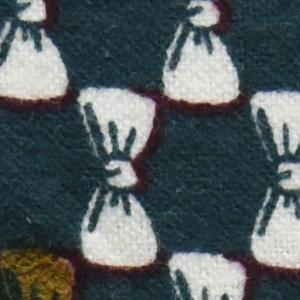Oil Stain: (1, 244, 86, 300)
